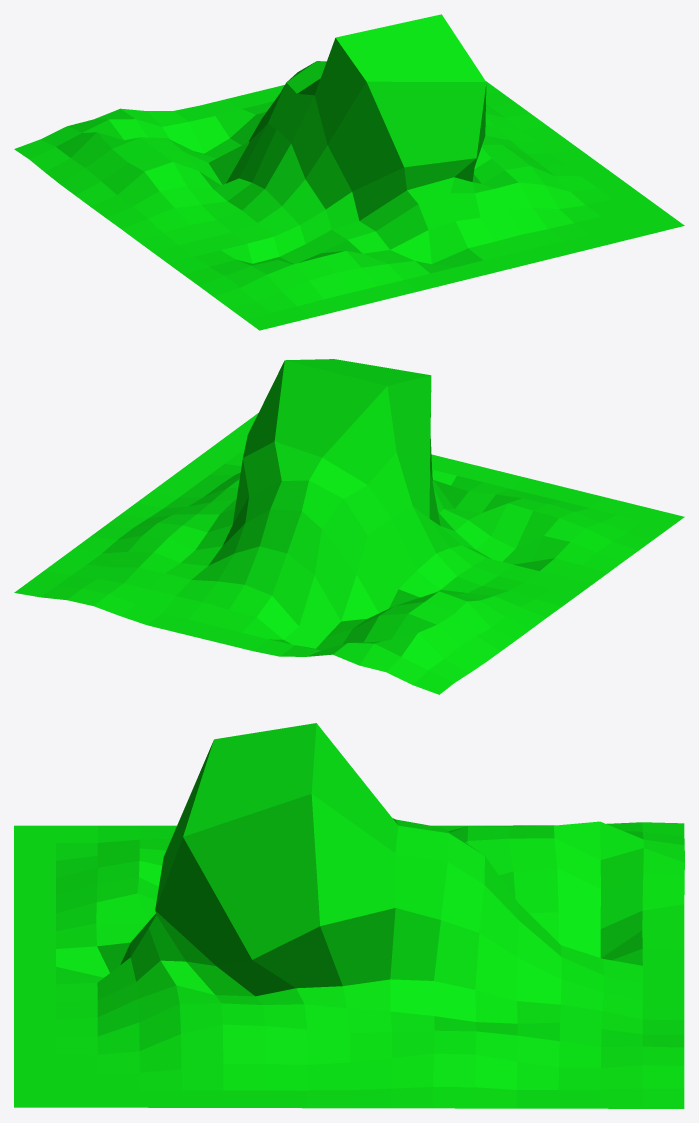
The model's file is Hill.glb.
The picture shows the model from 3 angles, top to bottom: view 1: azimuth 30°, elevation 25°; view 2: azimuth 150°, elevation 25°; view 3: azimuth 270°, elevation 25°; orthographic projection. The views are drawn at different scales.
Visible parts, largest first — view 1: Plane; view 2: Plane; view 3: Plane.
Boxes of the visible parts, box(x1,y1,x2,y2) form: Plane: box(14, 14, 684, 330); Plane: box(14, 359, 684, 694); Plane: box(14, 723, 684, 1108).
Size of the model in its own units: 22.46 by 9.38 by 22.48.
